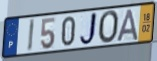0: (60, 16, 77, 48)
5: (40, 16, 57, 51)
A: (116, 8, 139, 43)
I: (26, 18, 36, 54)
J: (78, 11, 98, 47)
O: (98, 9, 121, 45)
